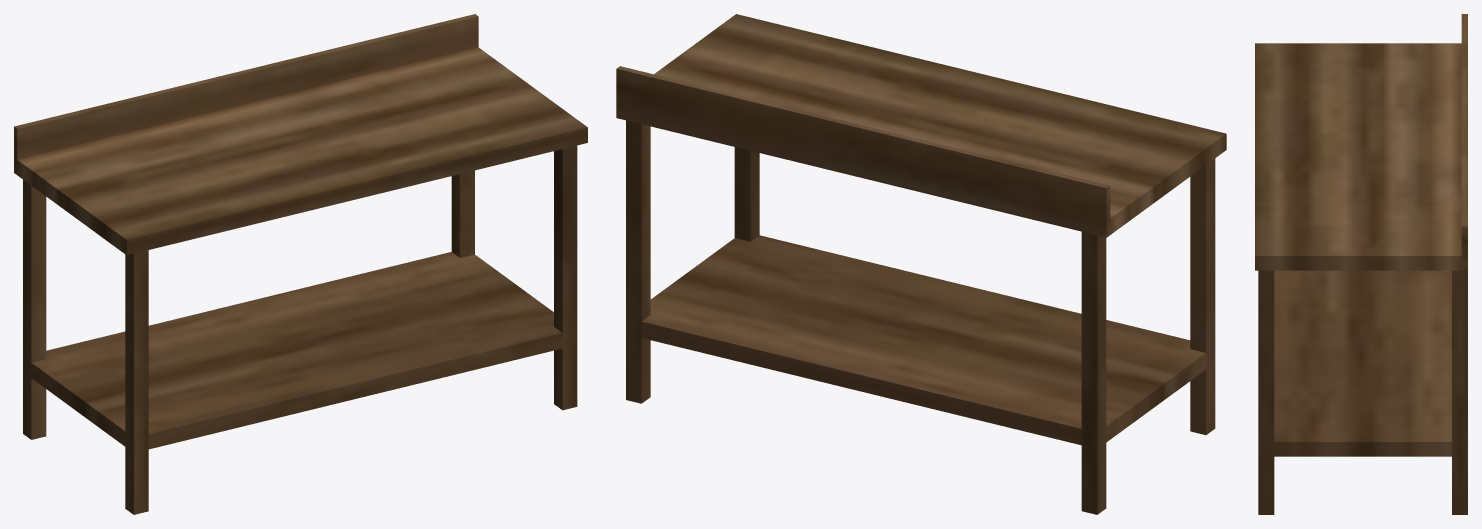
The model's file is GarageTable.fbx.
3 views of the same model, side by side, from view 1: azimuth 30°, elevation 25°; view 2: azimuth 150°, elevation 25°; view 3: azimuth 270°, elevation 25° (orthographic). The views are drawn at different scales.
Visible parts, largest first — view 1: Cube; view 2: Cube; view 3: Cube.
Boxes of the visible parts, x1,y1,x2,y2 form: Cube: (14, 14, 587, 514); Cube: (616, 14, 1226, 514); Cube: (1255, 14, 1467, 514).
Size of the model in its own units: 156 by 100 by 66.
